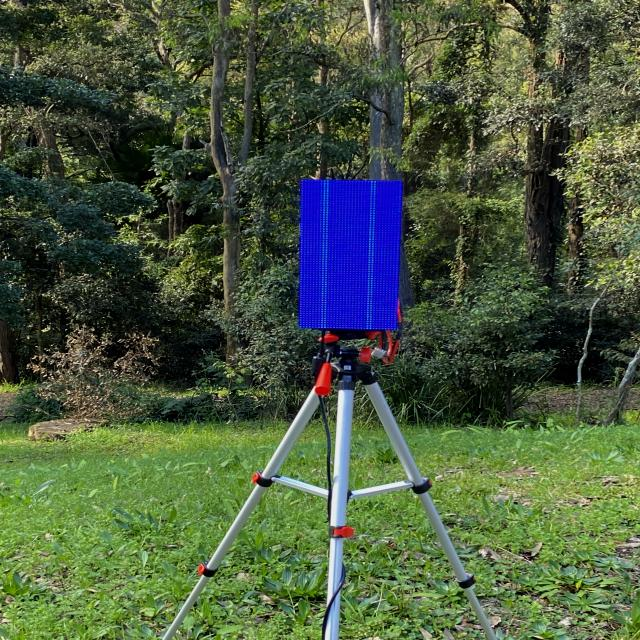matrix: (291, 170, 408, 337)
